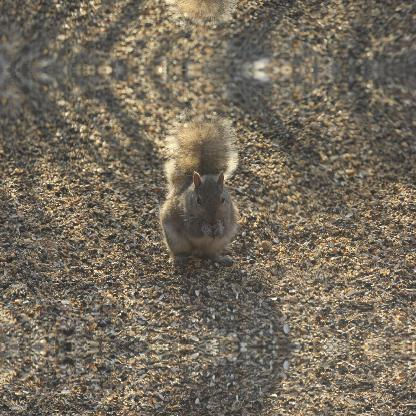Squirrel: (160, 110, 245, 262)
